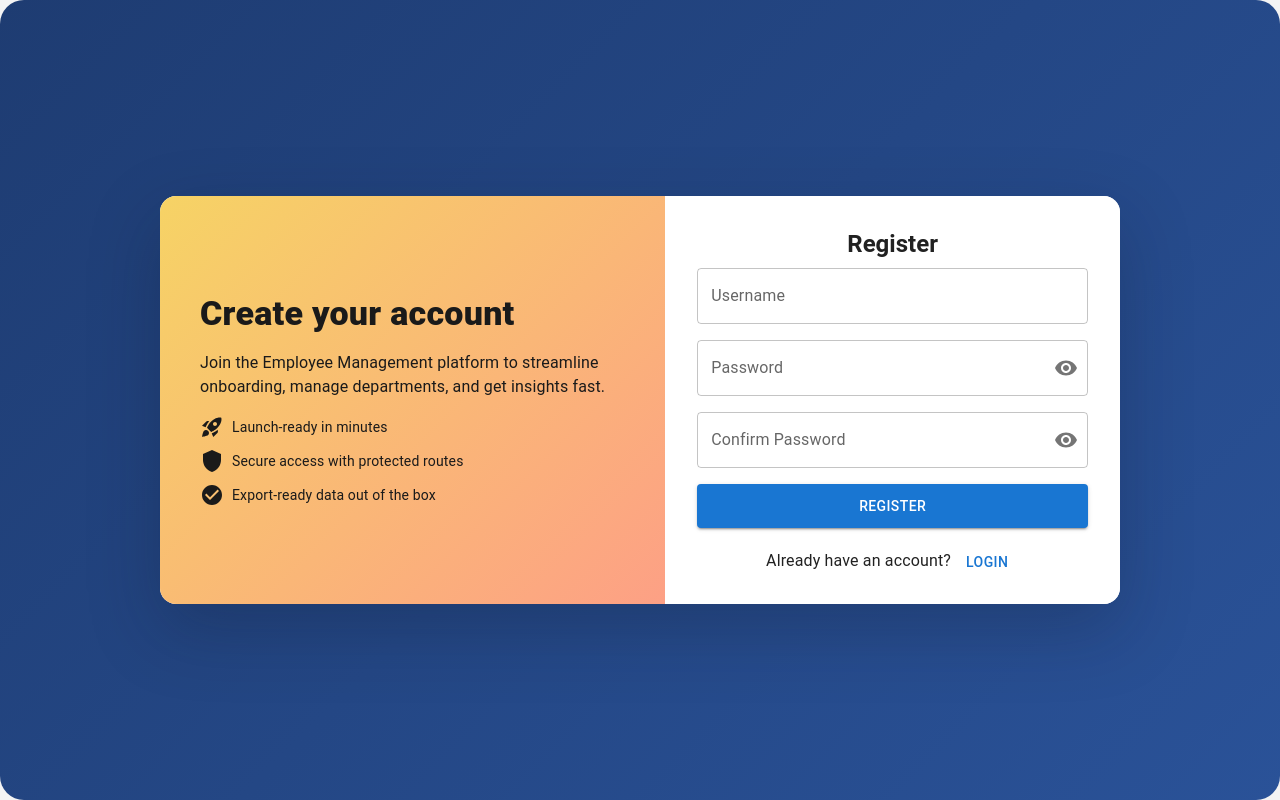
Test: <Register /> › shows server-side error message on failed registration
Type "exists" into the field labelled "Username" at (893, 296), box [697,268,1088,324]
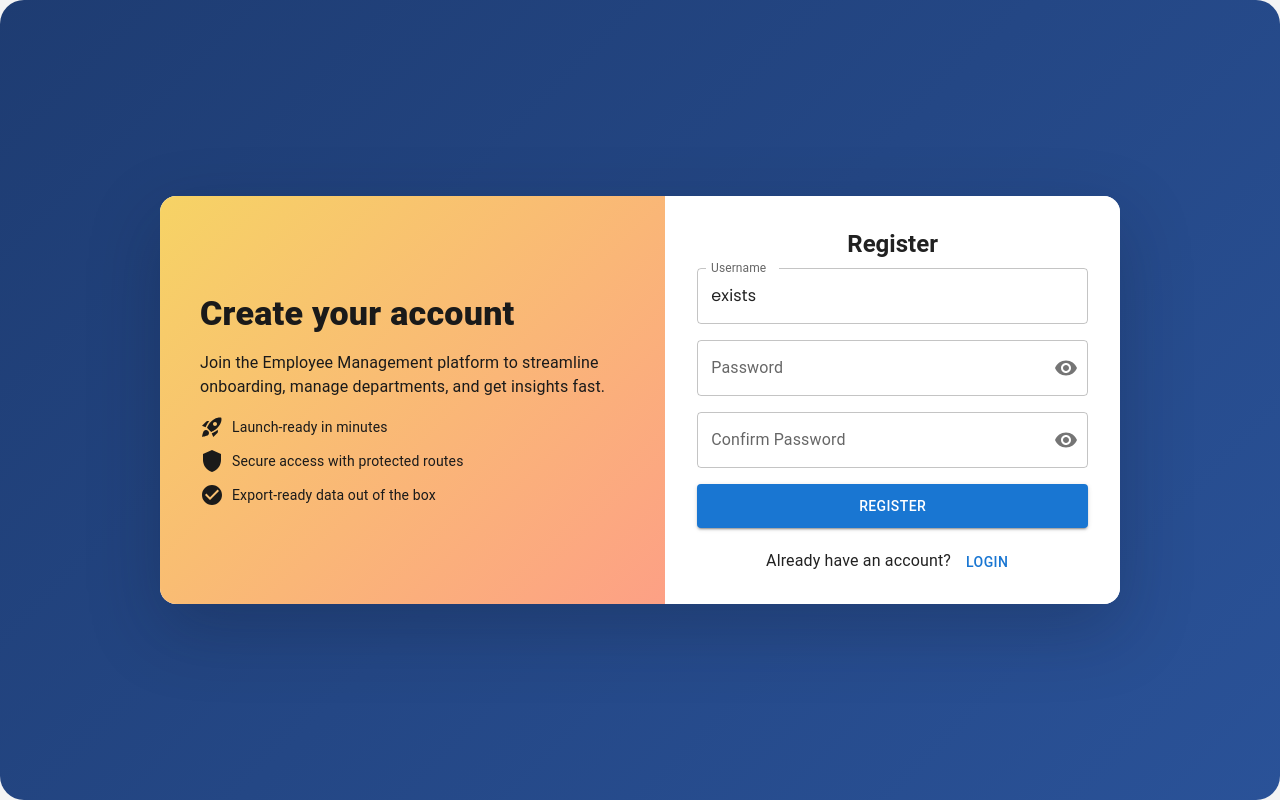
Type "p" into the password field labelled "Password" at (868, 368), box [697,340,1038,396]
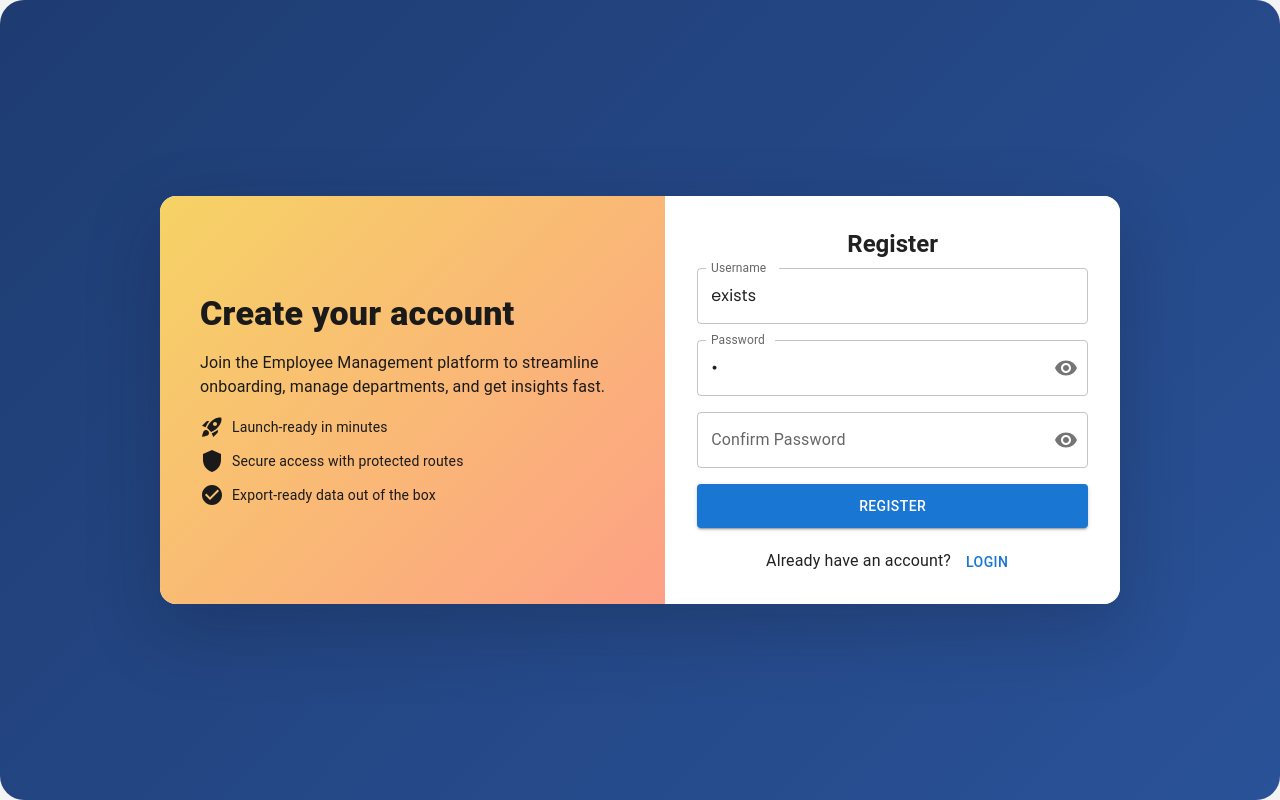
Type "p" into the password field labelled "Confirm Password" at (868, 440), box [697,412,1038,468]
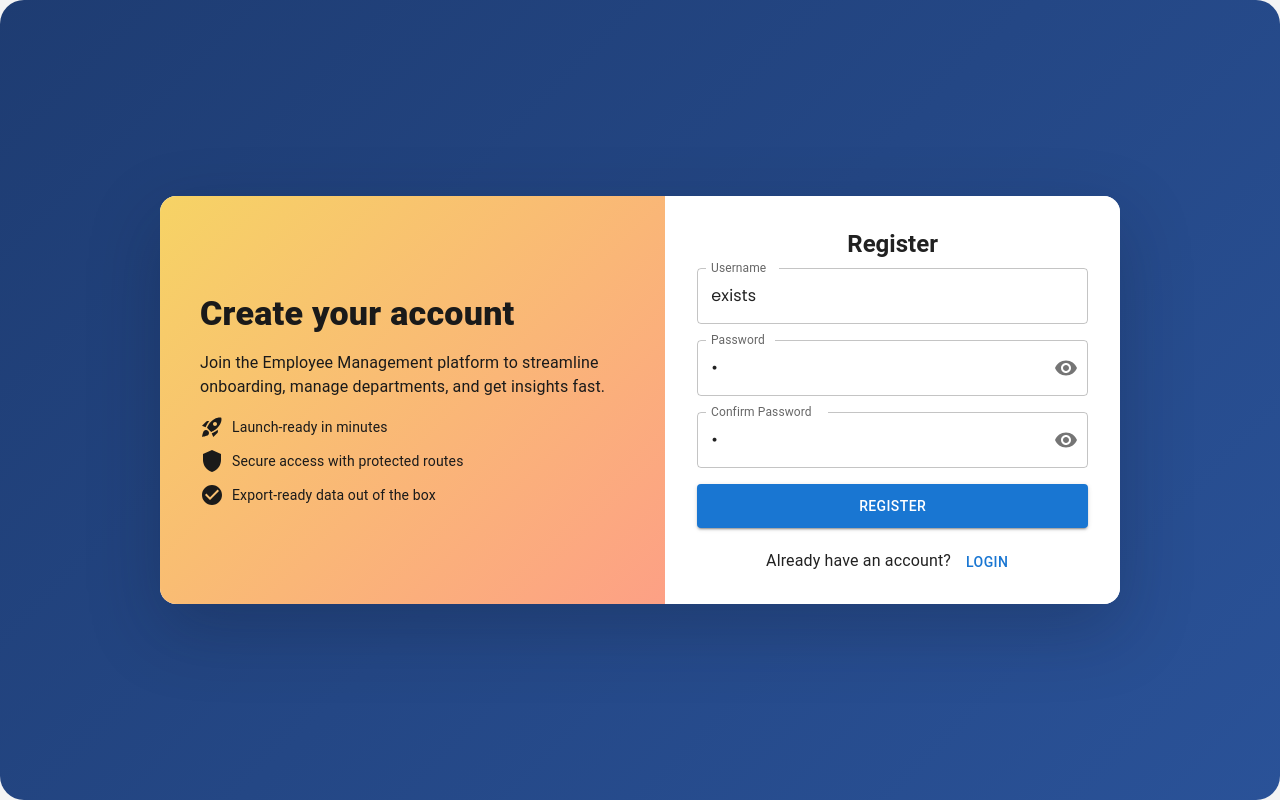
Click the button "Register" at (893, 506), box [697,484,1088,528]
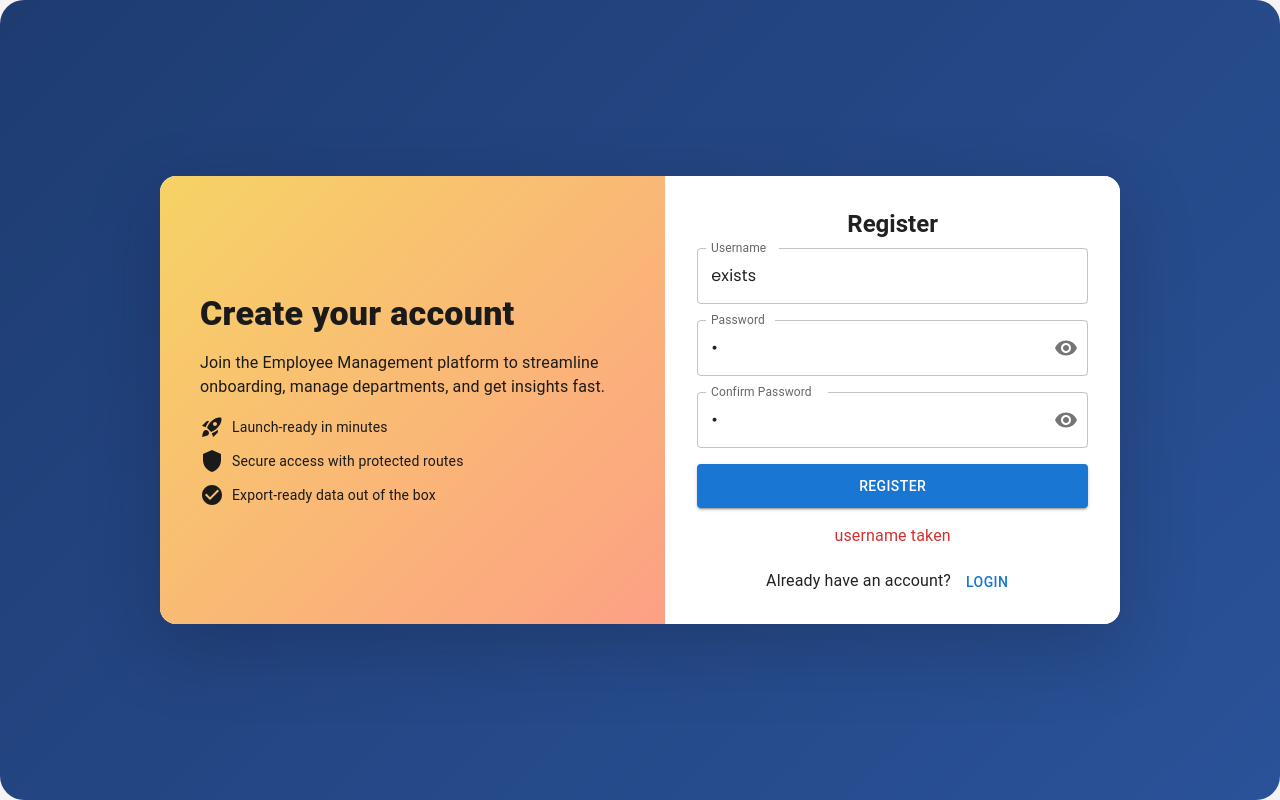
Expected: the text "username taken" is shown, [834,526,951,545]
